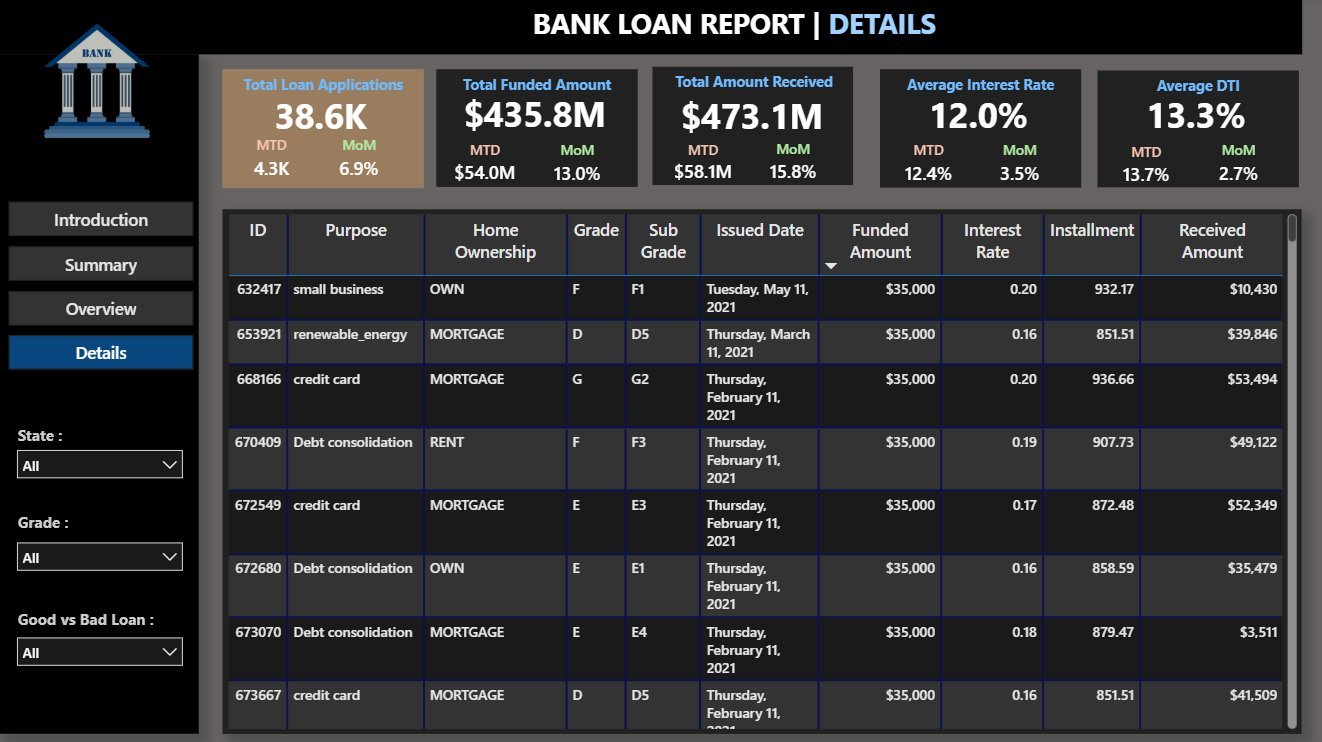

The dashboard page shown, as its layout file describes it:
{"tool":"powerbi","page":{"name":"Details","canvas":[1280,720],"ordinal":3},"visuals":[{"type":"shape","box":[629.2,66.4,193.8,114.2],"z":0,"group":"g3"},{"type":"shape","box":[214.3,68.6,194.3,114.3],"z":0,"group":"g1"},{"type":"shape","box":[421.4,68.6,194.5,114],"z":0,"group":"g2"},{"type":"shape","box":[848.8,68.6,194.2,114.3],"z":0,"group":"g4"},{"type":"shape","box":[1059.3,69.8,194.5,113.1],"z":0,"group":"g5"},{"type":"shape","box":[214.7,203.7,1041.9,506.5],"z":0},{"type":"shape","box":[0,0,1257,54.7],"z":1000},{"type":"card","fields":{"Values":["table_measures.total_loan_appl"]},"box":[247.2,83.2,124.3,61.3],"z":1000,"group":"g1"},{"type":"card","fields":{"Values":["table_measures.total_funded_amt"]},"box":[433.2,83.2,165.9,58.4],"z":1000,"group":"g2"},{"type":"card","fields":{"Values":["table_measures.avg_interest_rate"]},"box":[860.6,83.2,165.6,58.6],"z":1000,"group":"g4"},{"type":"card","fields":{"Values":["table_measures.avg_DTI"]},"box":[1071.1,84.3,165.9,57.9],"z":1000,"group":"g5"},{"type":"card","fields":{"Values":["table_measures.total_received_amt"]},"box":[643.2,85.3,163.1,55.8],"z":1000,"group":"g3"},{"type":"shape","box":[0,54.7,191.9,655.8],"z":2000},{"type":"textbox","box":[632.2,67,191,41.6],"z":2000,"group":"g3"},{"type":"textbox","box":[214.3,68.6,194.3,39],"z":2000,"group":"g1"},{"type":"textbox","box":[421.4,68.6,194.5,38.9],"z":2000,"group":"g2"},{"type":"textbox","box":[848.8,68.6,194.2,39],"z":2000,"group":"g4"},{"type":"textbox","box":[1059.3,69.8,194.5,38.6],"z":2000,"group":"g5"},{"type":"card","title":"MTD","fields":{"Values":["table_measures.MTD_loan_appl"]},"box":[235.7,132.7,51.4,50.2],"z":3000,"group":"g1"},{"type":"card","title":"MTD","fields":{"Values":["table_measures.MTD_received_amt"]},"box":[643.2,137.1,68.9,46.5],"z":3000,"group":"g3"},{"type":"card","title":"MTD","fields":{"Values":["table_measures.MTD_funded_amt"]},"box":[433.2,137.4,70.1,48.6],"z":3000,"group":"g2"},{"type":"card","title":"MTD","fields":{"Values":["table_measures.MTD_interest_rate"]},"box":[860.6,137.6,70,48.8],"z":3000,"group":"g4"},{"type":"card","title":"MTD","fields":{"Values":["table_measures.MTD_avg_DTI"]},"box":[1071.1,138.1,70.1,48.3],"z":3000,"group":"g5"},{"type":"textbox","box":[12.4,406,119.7,38.5],"z":3000},{"type":"textbox","box":[509.2,1.4,447.3,49.5],"z":4000},{"type":"card","title":"MoM","fields":{"Values":["table_measures.MOM_loan_appl"]},"box":[320,132.7,51.4,50.2],"z":4000,"group":"g1"},{"type":"card","title":"MoM","fields":{"Values":["table_measures.MOM_received_amt"]},"box":[736.7,136.9,56.8,47.5],"z":4000,"group":"g3"},{"type":"card","title":"MoM","fields":{"Values":["table_measures.MOM_funded_amt"]},"box":[528.3,137.2,57.8,49.7],"z":4000,"group":"g2"},{"type":"card","title":"MoM","fields":{"Values":["table_measures.MOM_interest_rate"]},"box":[955.6,137.4,57.7,49.8],"z":4000,"group":"g4"},{"type":"card","title":"MoM","fields":{"Values":["table_measures.MOM_avg_DTI"]},"box":[1166.2,137.9,57.8,49.3],"z":4000,"group":"g5"},{"type":"group","id":"g1","title":"Group 1","box":[214.3,68.6,194.3,114.3],"z":5000},{"type":"group","id":"g2","title":"Group 1","box":[421.4,68.6,194.3,118],"z":6000},{"type":"group","id":"g3","title":"Group 1","box":[629.2,66.4,194,118],"z":7000},{"type":"group","id":"g4","title":"Group 1","box":[848.8,68.6,194.2,118.6],"z":8000},{"type":"group","id":"g5","title":"Group 1","box":[1059.3,69.8,194.2,117.4],"z":9000},{"type":"slicer","fields":{"Values":["financial_loan.address_state"]},"box":[5.5,425.3,180.3,50.9],"z":10000},{"type":"slicer","fields":{"Values":["financial_loan.grade"]},"box":[5.5,514.8,180.3,50.9],"z":11000},{"type":"textbox","box":[12.4,491.4,119.7,38.5],"z":12000},{"type":"slicer","fields":{"Values":["financial_loan.Good vs Band Loan"]},"box":[5.5,607,180.3,50.9],"z":13000},{"type":"textbox","box":[12.4,583.6,163.8,38.5],"z":14000},{"type":"tableEx","fields":{"Values":["financial_loan.id","financial_loan.purpose","financial_loan.home_ownership","financial_loan.grade","financial_loan.sub_grade","financial_loan.issue_date","table_measures.total_funded_amt","Sum(financial_loan.int_rate)","Sum(financial_loan.installment)","table_measures.total_received_amt"]},"box":[214.7,203.7,1041.9,506.5],"z":15000},{"type":"pageNavigator","box":[8.3,196.8,178.9,163.8],"z":16000},{"type":"image","box":[0,1.4,187.2,156.9],"z":17000}]}

Visuals, with their boxes in screenshot pixels (x1, y1, x2, y2), scaled from the page's 1280x720 canvas onto the 1322x742 screenshot:
shape: crop(650, 68, 850, 186)
shape: crop(221, 71, 422, 188)
shape: crop(435, 71, 636, 188)
shape: crop(877, 71, 1077, 188)
shape: crop(1094, 72, 1295, 188)
shape: crop(222, 210, 1298, 732)
shape: crop(0, 0, 1298, 56)
card - table_measures.total_loan_appl: crop(255, 86, 384, 149)
card - table_measures.total_funded_amt: crop(447, 86, 619, 146)
card - table_measures.avg_interest_rate: crop(889, 86, 1060, 146)
card - table_measures.avg_DTI: crop(1106, 87, 1278, 147)
card - table_measures.total_received_amt: crop(664, 88, 833, 145)
shape: crop(0, 56, 198, 732)
textbox: crop(653, 69, 850, 112)
textbox: crop(221, 71, 422, 111)
textbox: crop(435, 71, 636, 111)
textbox: crop(877, 71, 1077, 111)
textbox: crop(1094, 72, 1295, 112)
"MTD" card: crop(243, 137, 297, 188)
"MTD" card: crop(664, 141, 735, 189)
"MTD" card: crop(447, 142, 520, 192)
"MTD" card: crop(889, 142, 961, 192)
"MTD" card: crop(1106, 142, 1179, 192)
textbox: crop(13, 418, 136, 458)
textbox: crop(526, 1, 988, 52)
"MoM" card: crop(330, 137, 384, 188)
"MoM" card: crop(761, 141, 820, 190)
"MoM" card: crop(546, 141, 605, 193)
"MoM" card: crop(987, 142, 1047, 193)
"MoM" card: crop(1204, 142, 1264, 193)
"Group 1" group: crop(221, 71, 422, 188)
"Group 1" group: crop(435, 71, 636, 192)
"Group 1" group: crop(650, 68, 850, 190)
"Group 1" group: crop(877, 71, 1077, 193)
"Group 1" group: crop(1094, 72, 1295, 193)
slicer - financial_loan.address_state: crop(6, 438, 192, 491)
slicer - financial_loan.grade: crop(6, 531, 192, 583)
textbox: crop(13, 506, 136, 546)
slicer - financial_loan.Good vs Band Loan: crop(6, 626, 192, 678)
textbox: crop(13, 601, 182, 641)
tableEx - financial_loan.id x financial_loan.purpose: crop(222, 210, 1298, 732)
pageNavigator: crop(9, 203, 193, 372)
image: crop(0, 1, 193, 163)
